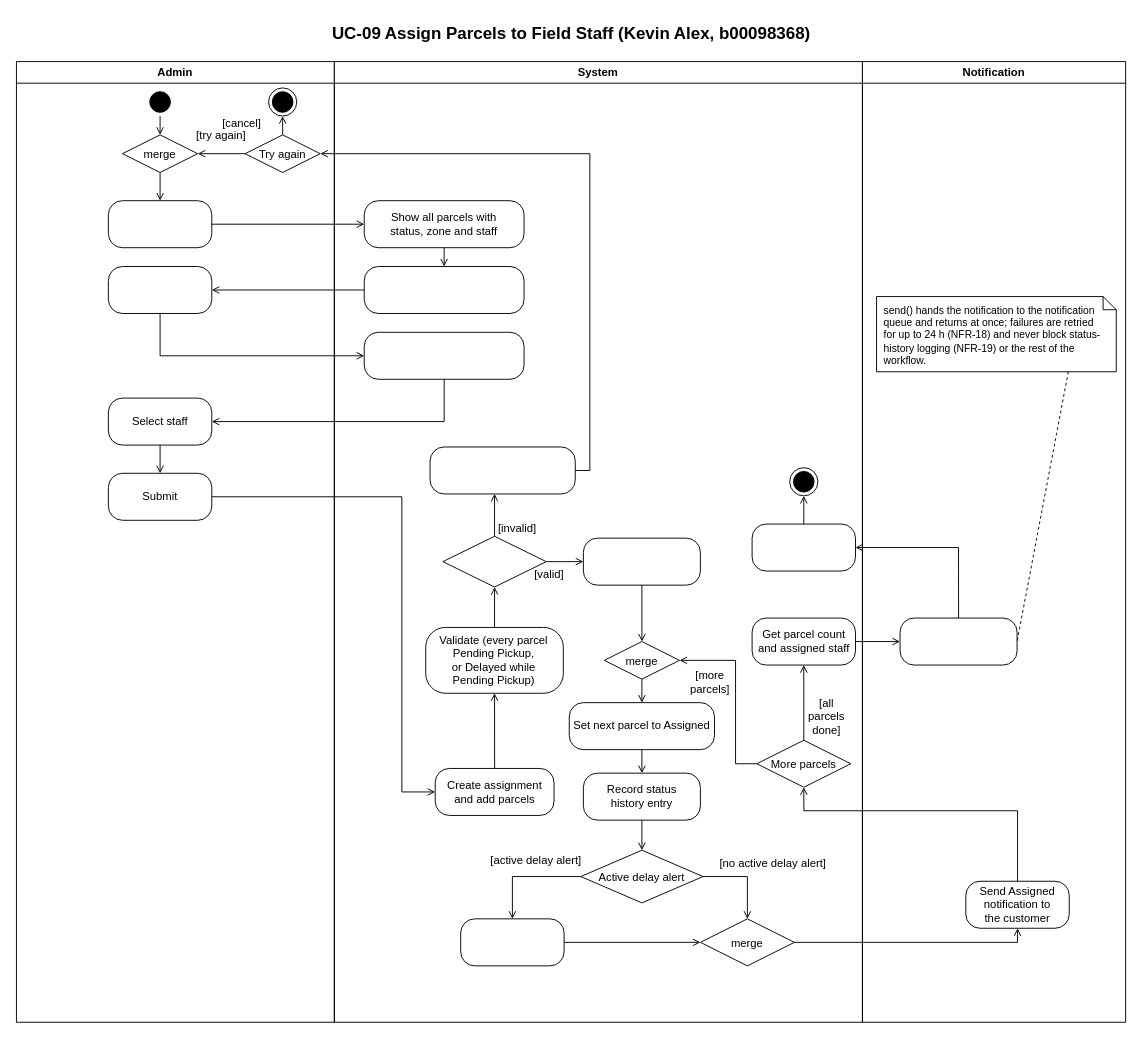
This 1142x1039 diagram has some shape labels left out. Each missing label, with the centre of its shape:
all parcels valid: point 494,561
Confirm assignment: point 641,561
Request parcel list: point 159,224
Resolve delay alert: point 512,942
Select parcels: point 159,289
Send 1 summary notification to the staff: point 958,641
Show "invalid parcels, assignment not confirmed": point 502,470
Show active staff with workload and zones: point 443,355
Show confirmation: point 803,547
Show unassigned Pending Pickup parcels: point 443,289
